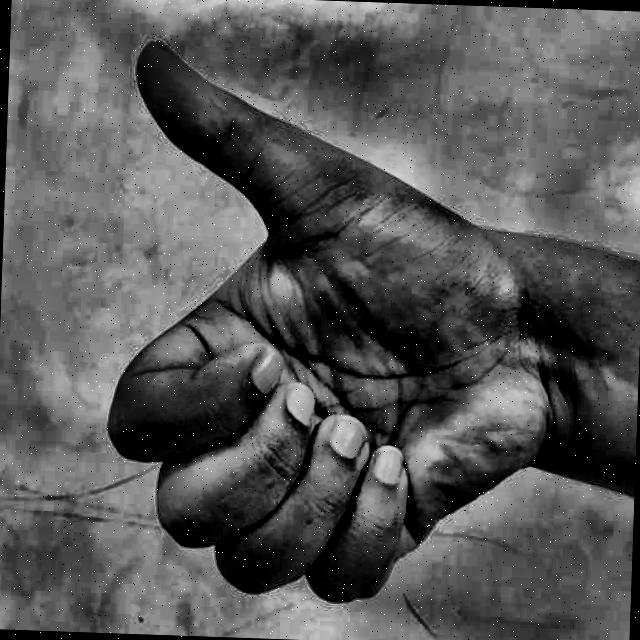Do: (60, 28, 559, 618)
